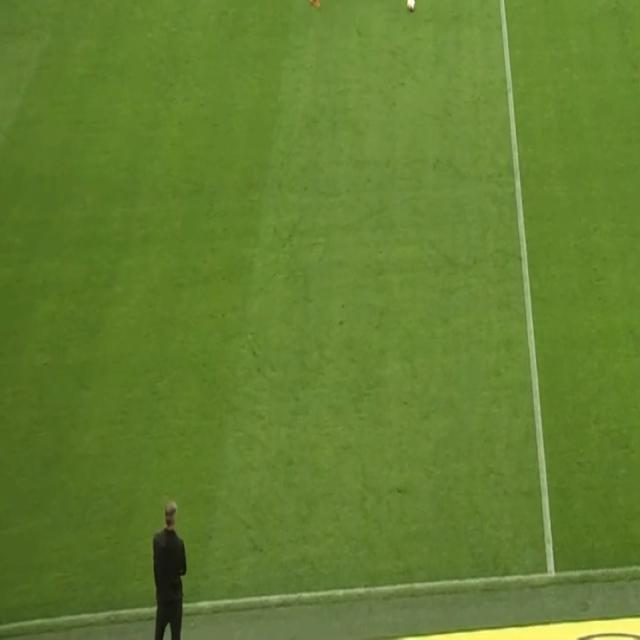ball: (404, 0, 416, 14)
